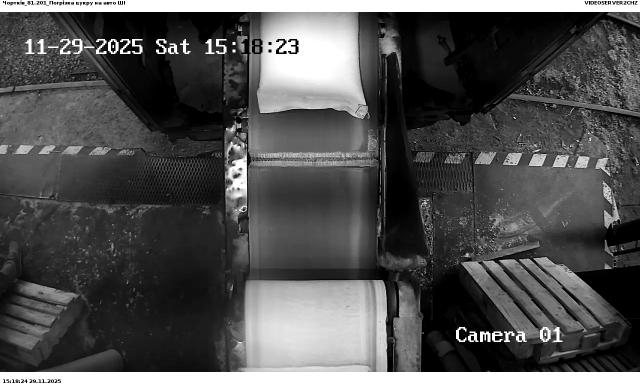bag: (257, 12, 368, 118), (240, 365, 374, 372)
